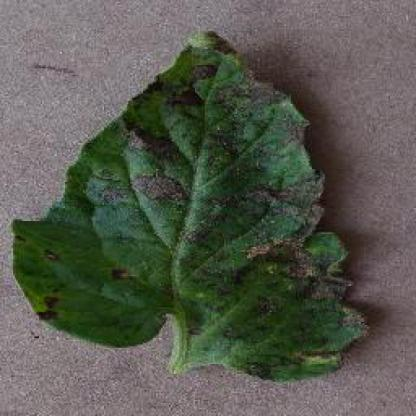Tomato_Blight: (10, 32, 369, 379)
